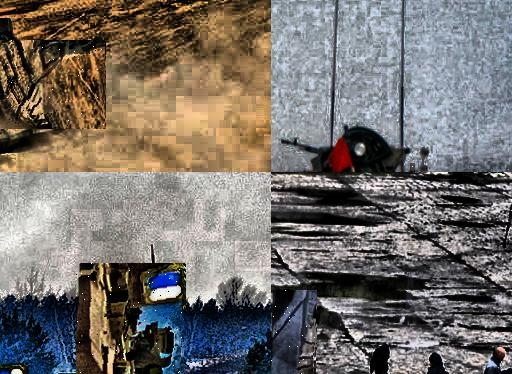tanks: (78, 265, 186, 374), (1, 42, 106, 127), (272, 291, 318, 374), (340, 128, 408, 173), (302, 148, 332, 173), (411, 164, 413, 173)
